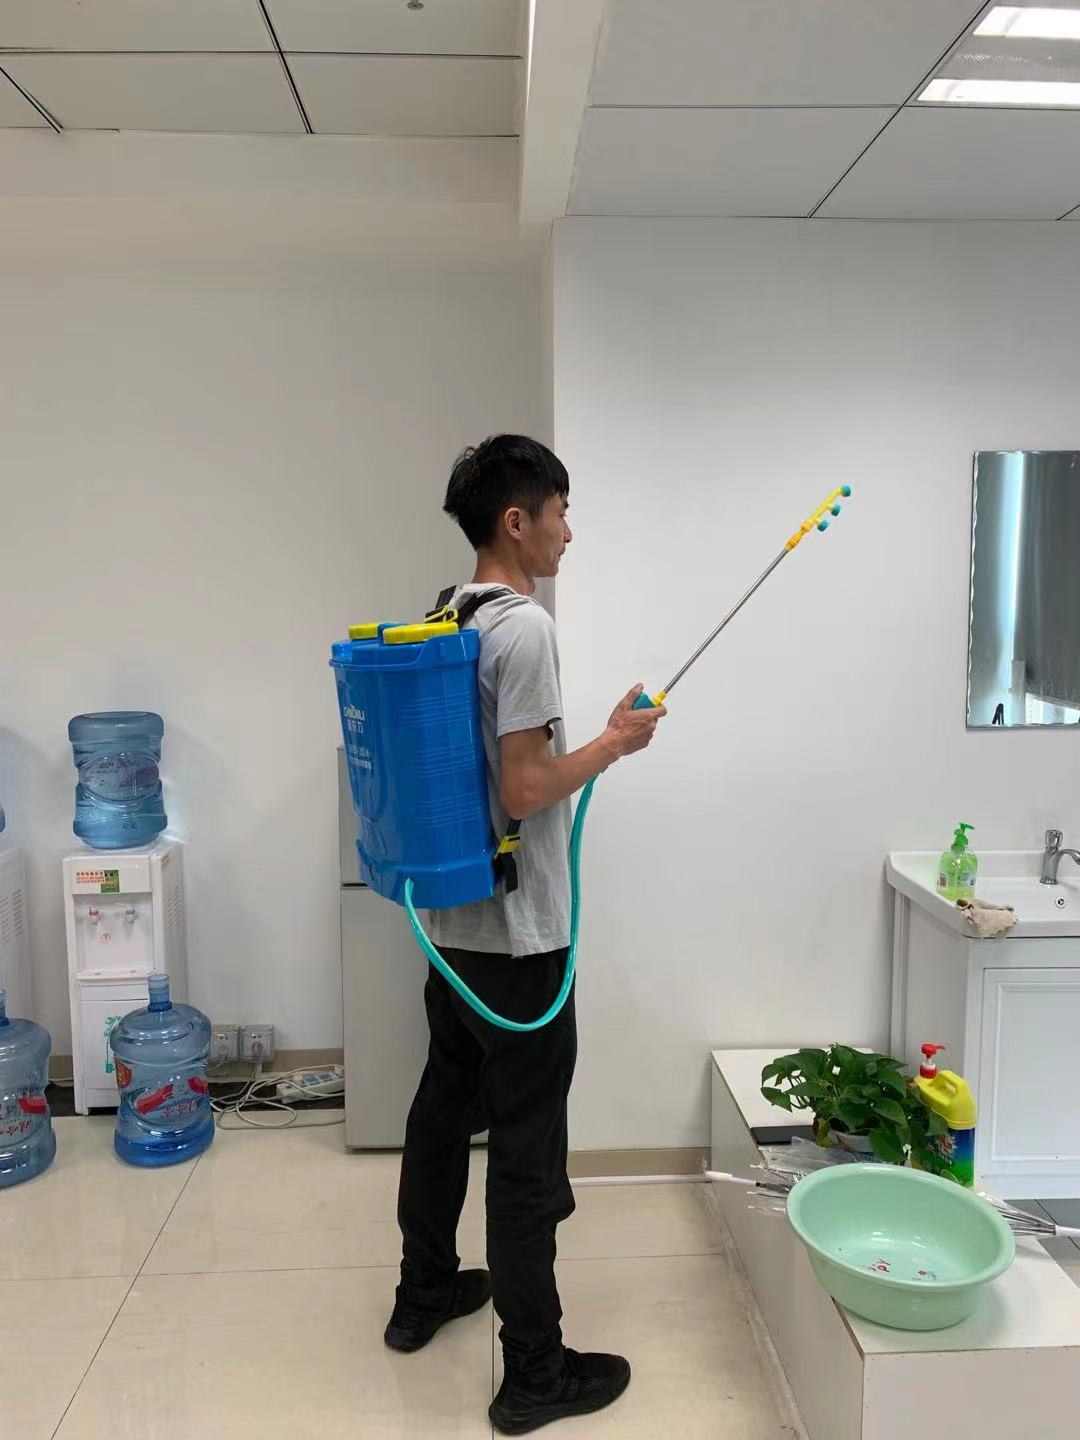berrl: (320, 613, 505, 920)
